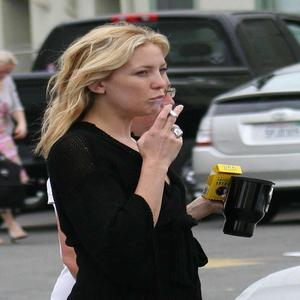cigarette: (162, 101, 182, 122)
